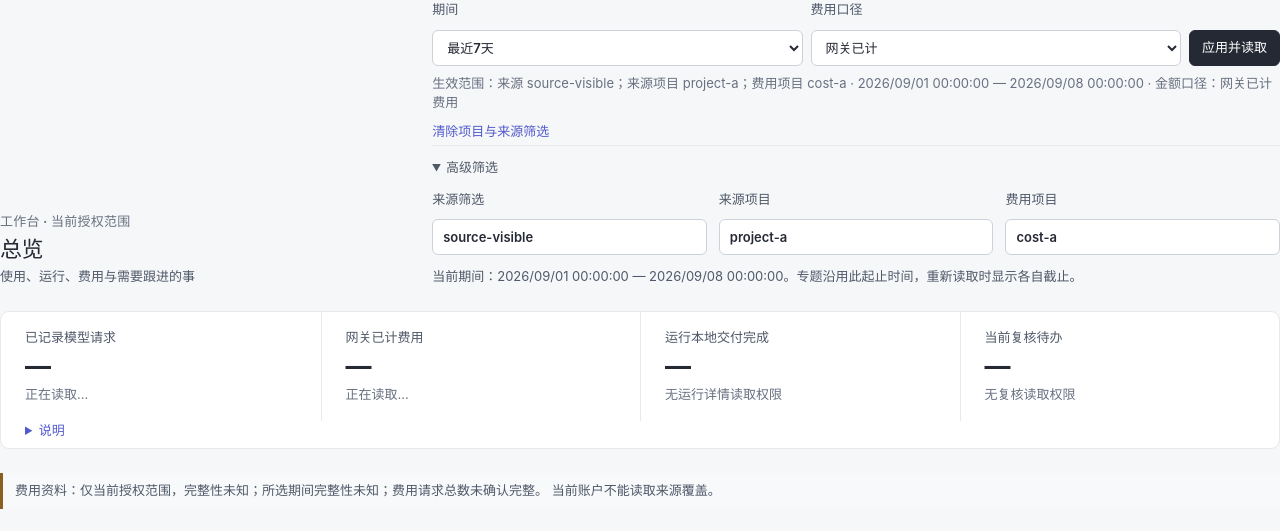
combined overview within existing scope › new filters cancel the earlier request without resurrecting its members
Replace the text in the field labelled "来源筛选" with "source-b". click: (570, 237)
box: [432,219,707,255]
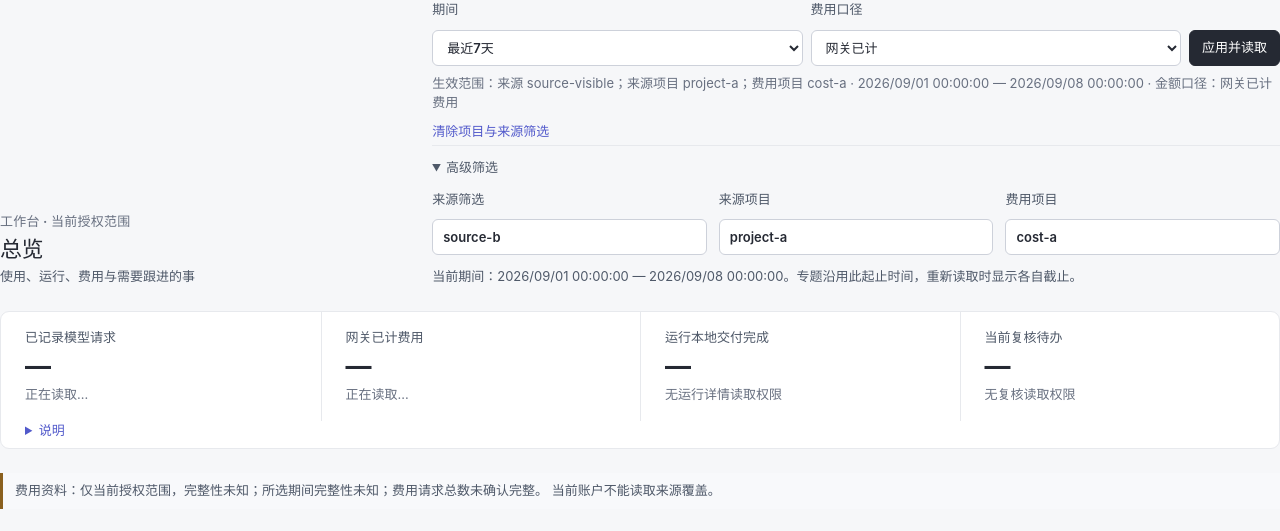
Click the button "应用并读取". click: (1234, 48)
box: [1189,30,1279,66]
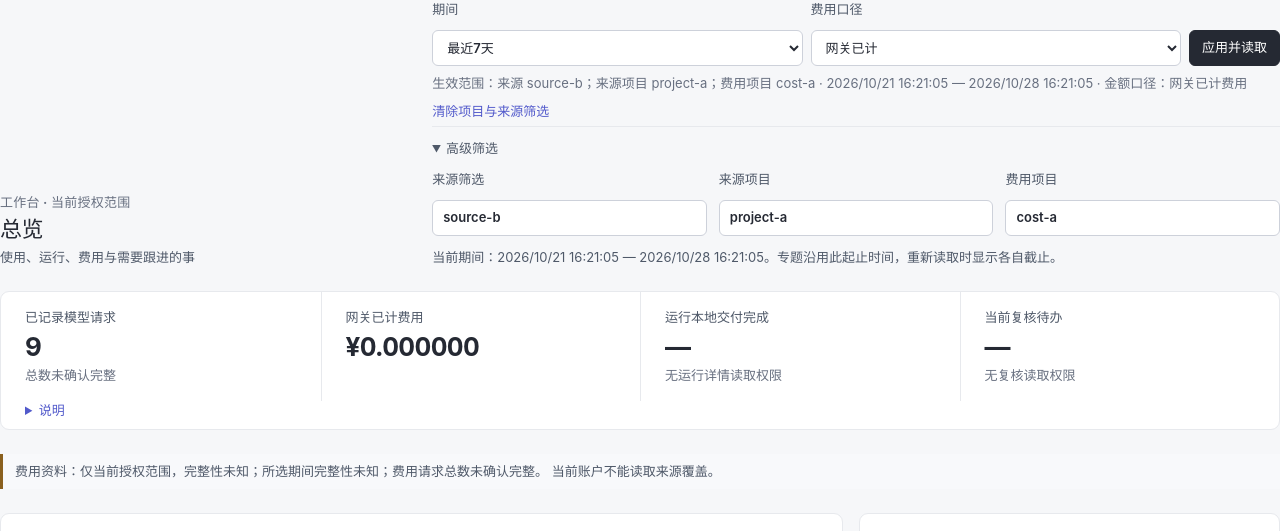
Expected: the text "9" is shown, [25,331,41,362]
